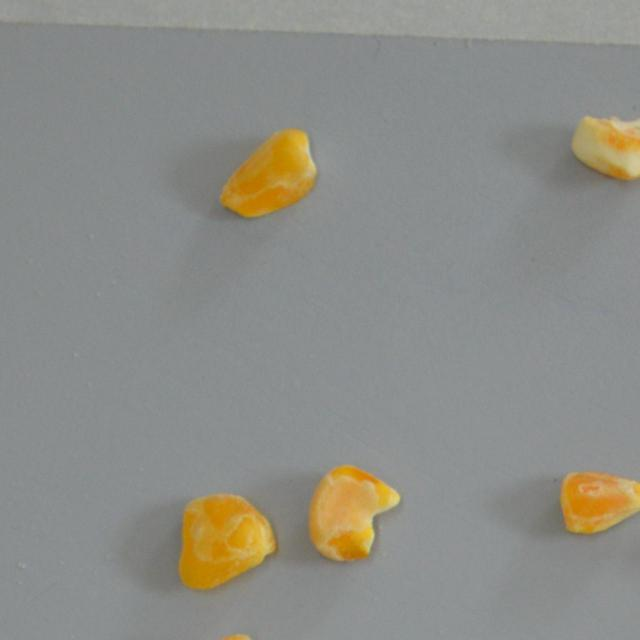dañado: (304, 460, 403, 564)
pelicula: (174, 490, 280, 592), (220, 126, 318, 222), (556, 467, 640, 538), (561, 110, 640, 182), (160, 629, 268, 640)
